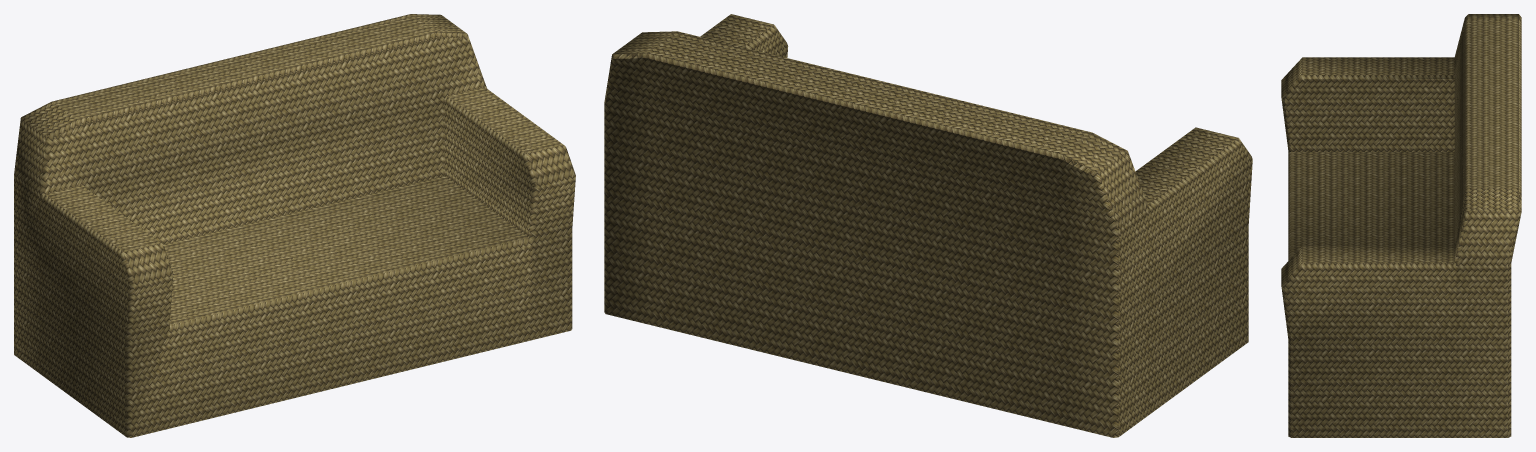
Rendered from UDC_RattanSofa.obj.
The picture shows the model from 3 angles, left to right: view 1: azimuth 30°, elevation 25°; view 2: azimuth 150°, elevation 25°; view 3: azimuth 270°, elevation 25°; orthographic projection. The views are drawn at different scales.
Parts seen in each view (by area): view 1: UDC_RattanSofa; view 2: UDC_RattanSofa; view 3: UDC_RattanSofa.
Boxes of the visible parts, bbox=[...] form: UDC_RattanSofa: bbox=[14, 14, 575, 437]; UDC_RattanSofa: bbox=[604, 14, 1252, 437]; UDC_RattanSofa: bbox=[1281, 14, 1521, 437].
Bounding box in the file's own units: 0.6107 × 0.3124 × 0.2969.
Materials: 1 (1 with a texture image).
